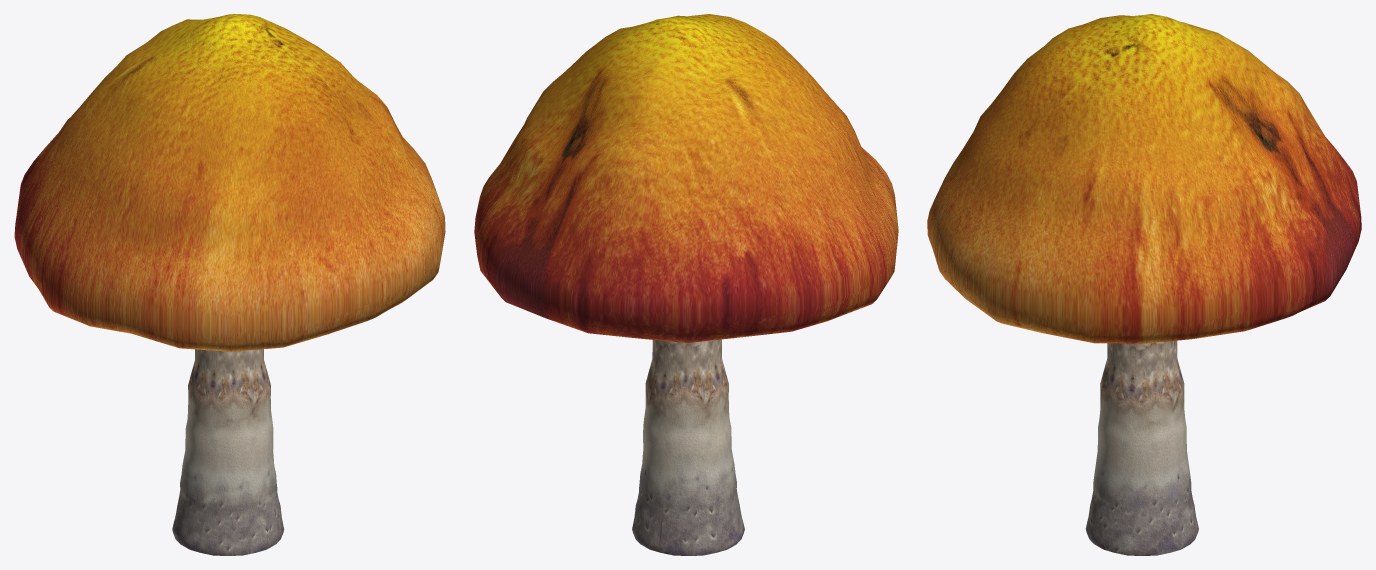
File: mapsMorph1.FBX
3 renders of one model, left to right at view 1: azimuth 30°, elevation 25°; view 2: azimuth 150°, elevation 25°; view 3: azimuth 270°, elevation 25°, orthographic.
Visible parts, largest first — view 1: Mushroom01a_1; view 2: Mushroom01a_1; view 3: Mushroom01a_1.
Boxes of the visible parts, <box> form: Mushroom01a_1: <box>14,14,445,555</box>; Mushroom01a_1: <box>474,14,898,555</box>; Mushroom01a_1: <box>927,14,1361,555</box>.
Size of the model in its own units: 140 by 183 by 139.
3 materials, 3 textured.
